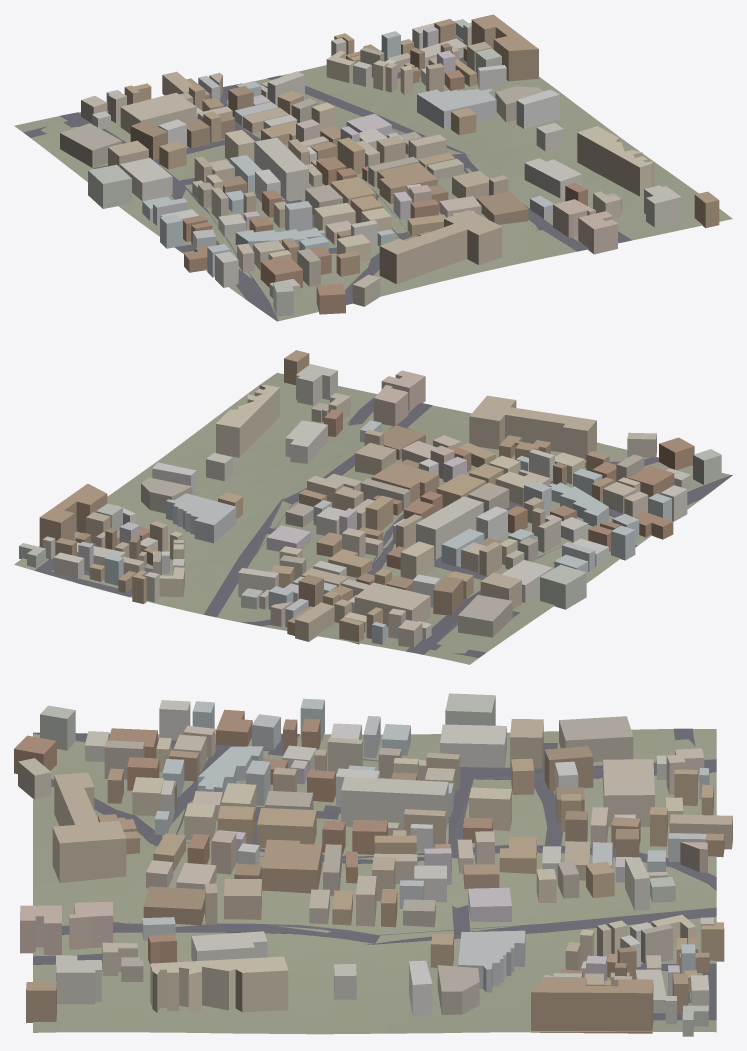
Rendered from chunk_10_3.glb.
The picture shows the model from 3 angles, top to bottom: view 1: azimuth 30°, elevation 25°; view 2: azimuth 150°, elevation 25°; view 3: azimuth 270°, elevation 25°; orthographic projection. The views are drawn at different scales.
Visible parts, largest first — view 1: geometry_184, geometry_1, geometry_109, geometry_0, geometry_105, geometry_33, geometry_145, geometry_119, geometry_9, geometry_15, geometry_111, geometry_185 (+55 smaller); view 2: geometry_184, geometry_1, geometry_109, geometry_105, geometry_0, geometry_33, geometry_145, geometry_190, geometry_119, geometry_9, geometry_51, geometry_111 (+61 smaller); view 3: geometry_184, geometry_109, geometry_0, geometry_1, geometry_33, geometry_105, geometry_145, geometry_51, geometry_119, geometry_190, geometry_15, geometry_188 (+103 smaller).
Part boxes in pixels (x1,y1,x2,y2): geometry_184: [14, 35, 732, 321]; geometry_1: [379, 210, 502, 284]; geometry_109: [577, 126, 654, 196]; geometry_0: [471, 14, 538, 81]; geometry_105: [417, 88, 496, 128]; geometry_33: [254, 137, 308, 200]; geometry_145: [120, 92, 196, 134]; geometry_119: [60, 123, 121, 167]; geometry_9: [88, 164, 131, 208]; geometry_15: [119, 158, 172, 201]; geometry_111: [524, 158, 581, 198]; geometry_185: [60, 112, 278, 321]; geometry_184: [14, 372, 730, 664]; geometry_1: [469, 395, 596, 460]; geometry_109: [216, 385, 279, 457]; geometry_105: [166, 493, 236, 543]; geometry_0: [39, 483, 107, 547]; geometry_33: [416, 496, 483, 559]; geometry_145: [354, 582, 430, 626]; geometry_190: [204, 396, 375, 617]; geometry_119: [458, 595, 512, 637]; geometry_9: [540, 564, 586, 609]; geometry_51: [371, 462, 439, 503]; geometry_111: [285, 420, 327, 463]; geometry_184: [33, 729, 716, 1034]; geometry_109: [150, 956, 288, 1012]; geometry_0: [531, 976, 653, 1033]; geometry_1: [52, 772, 126, 882]; geometry_33: [341, 777, 448, 830]; geometry_105: [458, 930, 525, 992]; geometry_145: [603, 759, 654, 826]; geometry_51: [261, 839, 322, 893]; geometry_119: [559, 716, 633, 762]; geometry_190: [33, 907, 716, 964]; geometry_15: [440, 724, 506, 767]; geometry_188: [62, 923, 379, 943].
Size of the model in its own units: 260 by 22.47 by 263.
